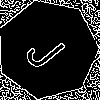J: (22, 24, 75, 74)
